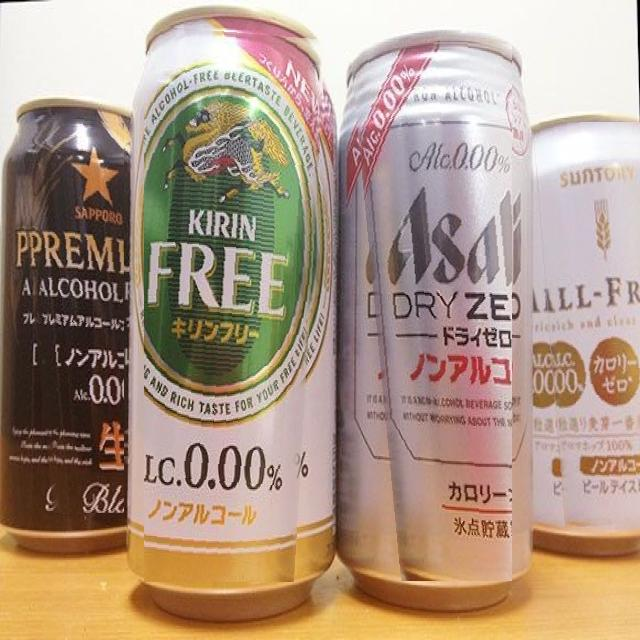Cans: (144, 25, 326, 582), (349, 39, 512, 581), (532, 122, 640, 528), (15, 117, 124, 513)
